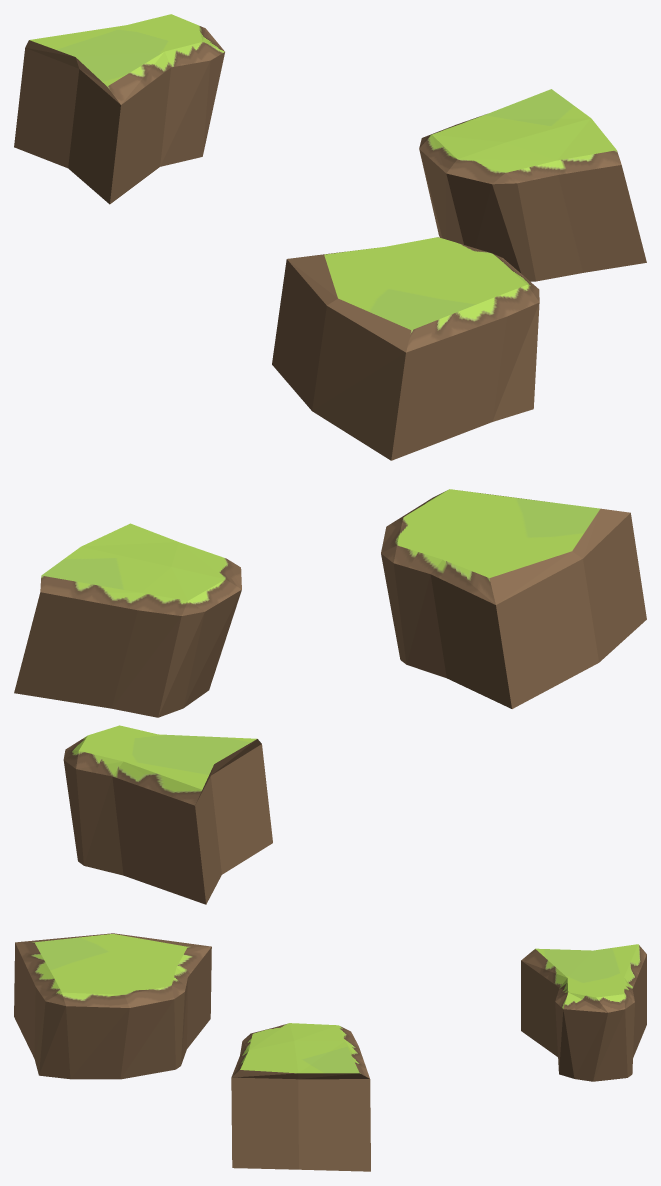
File: Ground_Attach_02.FBX
3 views of the same model, one above another, from view 1: azimuth 30°, elevation 25°; view 2: azimuth 150°, elevation 25°; view 3: azimuth 270°, elevation 25° (orthographic). The views are drawn at different scales.
Parts seen in each view (by area): view 1: Object002, Object001, Ground_Attach_Obj_02; view 2: Object002, Object001, Ground_Attach_Obj_02; view 3: Object002, Object001, Ground_Attach_Obj_02.
Boxes of the visible parts, x1,y1,x2,y2 form: Object002: (272, 237, 539, 460); Object001: (419, 89, 646, 281); Ground_Attach_Obj_02: (14, 14, 224, 204); Object002: (381, 489, 646, 708); Object001: (14, 523, 241, 717); Ground_Attach_Obj_02: (63, 725, 272, 904); Object002: (14, 933, 211, 1079); Object001: (231, 1023, 370, 1171); Ground_Attach_Obj_02: (521, 944, 646, 1081).
Size of the model in its own units: 180 by 48.13 by 303.
